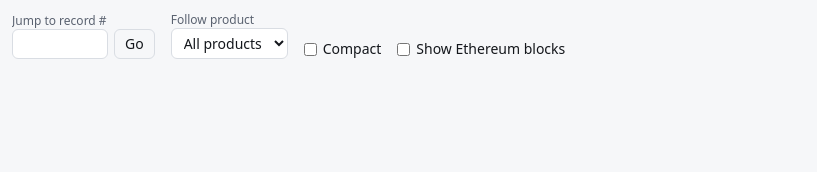
Test: ChainControls › clears the error when the user types again
Click the button "Go".
click(134, 44)  # box [114, 29, 155, 59]
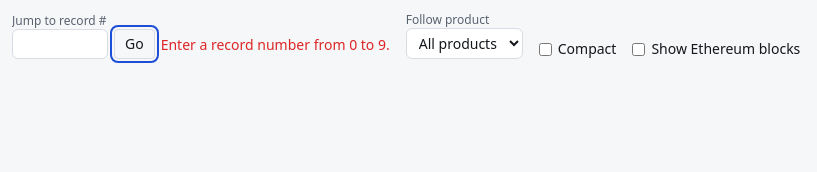
Expected: the message "Enter a record number from 0 to 9." is shown, [161, 35, 390, 59]
Type "3" into the field labelled "Jump to record #".
click(60, 44); type("3")  # box [12, 29, 108, 59]
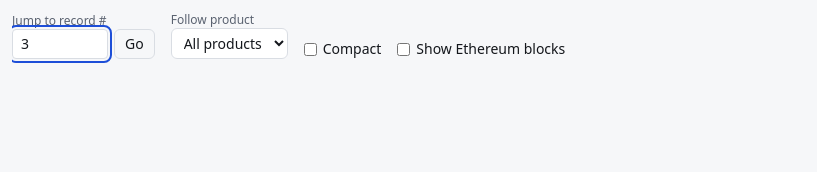
Expected: the message "Enter a record number from 0 to 9." is gone
